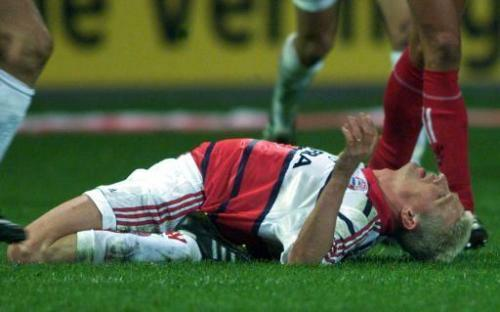Fall-Detected: (0, 73, 493, 273)
